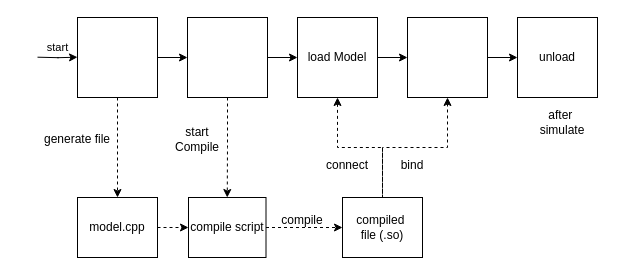
Some shapes in this 624 by 275 pixel diagram are drawn without their labels. Each missing label, with the centre of its shape:
"compile Model" belongs at [227,57].
"gen Model" belongs at [117,57].
"retrieve Sim Val" belongs at [447,57].
